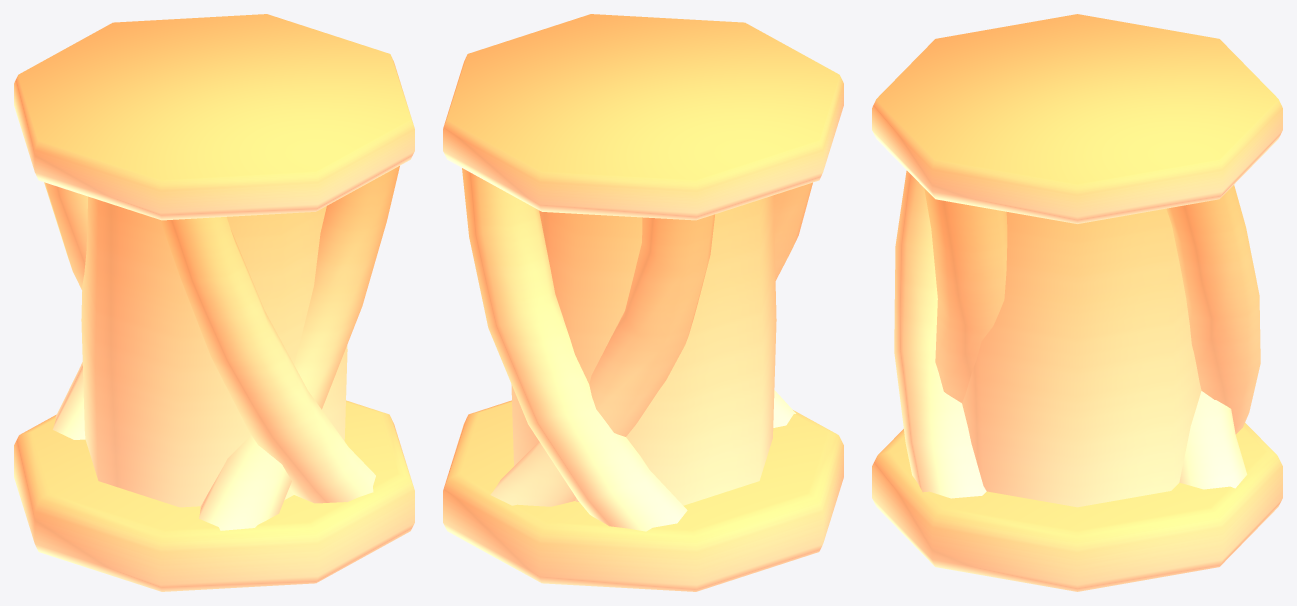
The model's file is wood_grip_099_004.glb.
The picture shows the model from 3 angles, left to right: view 1: azimuth 30°, elevation 25°; view 2: azimuth 150°, elevation 25°; view 3: azimuth 270°, elevation 25°; orthographic projection.
Parts seen in each view (by area): view 1: wood_grip_099.004; view 2: wood_grip_099.004; view 3: wood_grip_099.004.
Boxes of the visible parts, x1,y1,x2,y2 form: wood_grip_099.004: [14, 14, 414, 591]; wood_grip_099.004: [443, 14, 843, 591]; wood_grip_099.004: [872, 14, 1282, 591].
Bounding box in the file's own units: 2.89 × 3.2 × 2.89.
Materials: 1 (1 with a texture image).
